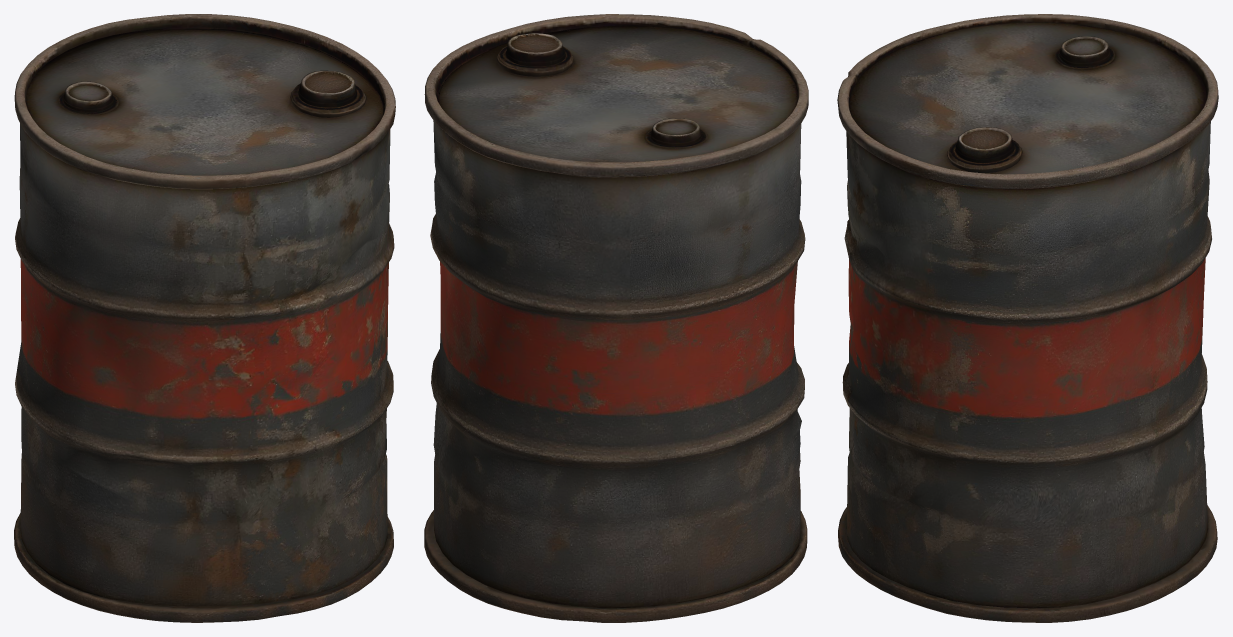
The model's file is selected.fbx.
3 renders of one model, left to right at view 1: azimuth 30°, elevation 25°; view 2: azimuth 150°, elevation 25°; view 3: azimuth 270°, elevation 25°, orthographic.
Visible parts, largest first — view 1: tripo_node_76cc90c3-d39c-49a6-9dee-d00f7694268d; view 2: tripo_node_76cc90c3-d39c-49a6-9dee-d00f7694268d; view 3: tripo_node_76cc90c3-d39c-49a6-9dee-d00f7694268d.
Part boxes in pixels (x1,y1,x2,y2): tripo_node_76cc90c3-d39c-49a6-9dee-d00f7694268d: (14,14,395,622); tripo_node_76cc90c3-d39c-49a6-9dee-d00f7694268d: (424,14,808,622); tripo_node_76cc90c3-d39c-49a6-9dee-d00f7694268d: (837,14,1218,622).
Size of the model in its own units: 0.7544 by 0.9995 by 0.7563.
1 material, 1 textured.
